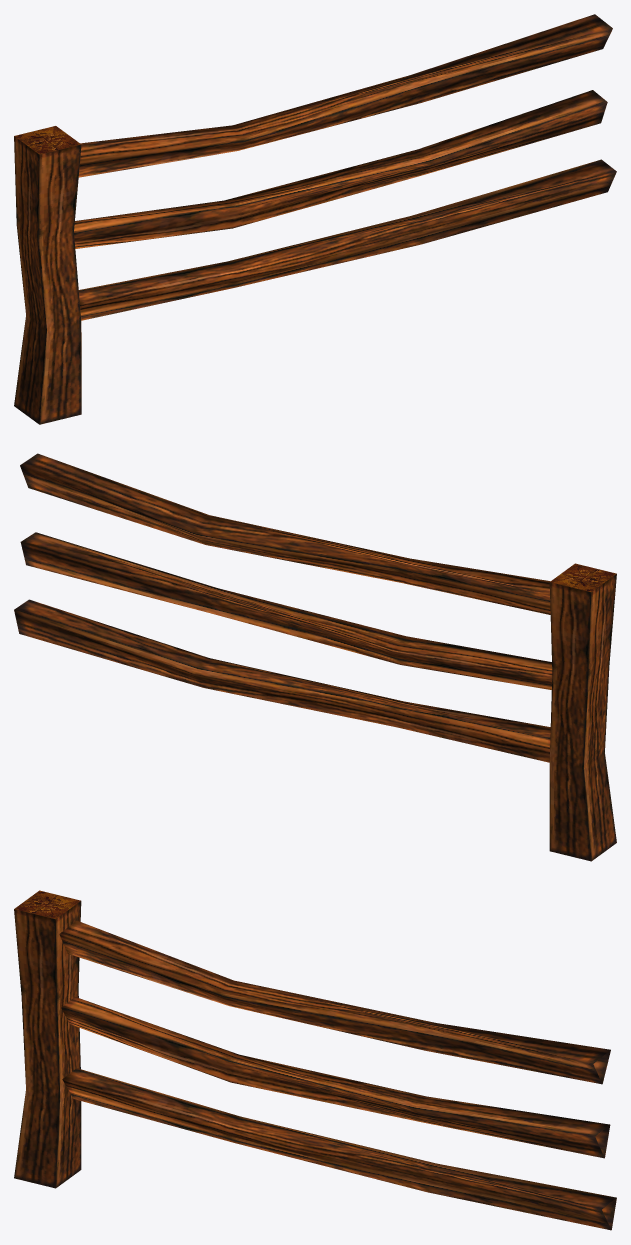
The model's file is INST_HTOWN_FENCEBRN00DEG.fbx.
3 renders of one model, top to bottom at view 1: azimuth 30°, elevation 25°; view 2: azimuth 150°, elevation 25°; view 3: azimuth 330°, elevation 25°, orthographic.
Visible parts, largest first — view 1: INST_HTOWN_FENCEBRN00DEG; view 2: INST_HTOWN_FENCEBRN00DEG; view 3: INST_HTOWN_FENCEBRN00DEG.
Boxes of the visible parts, x1,y1,x2,y2 form: INST_HTOWN_FENCEBRN00DEG: (14,14,616,424); INST_HTOWN_FENCEBRN00DEG: (14,453,616,861); INST_HTOWN_FENCEBRN00DEG: (14,890,616,1230).
Size of the model in its own units: 30236 by 13360 by 2372.
2 materials, 2 textured.
